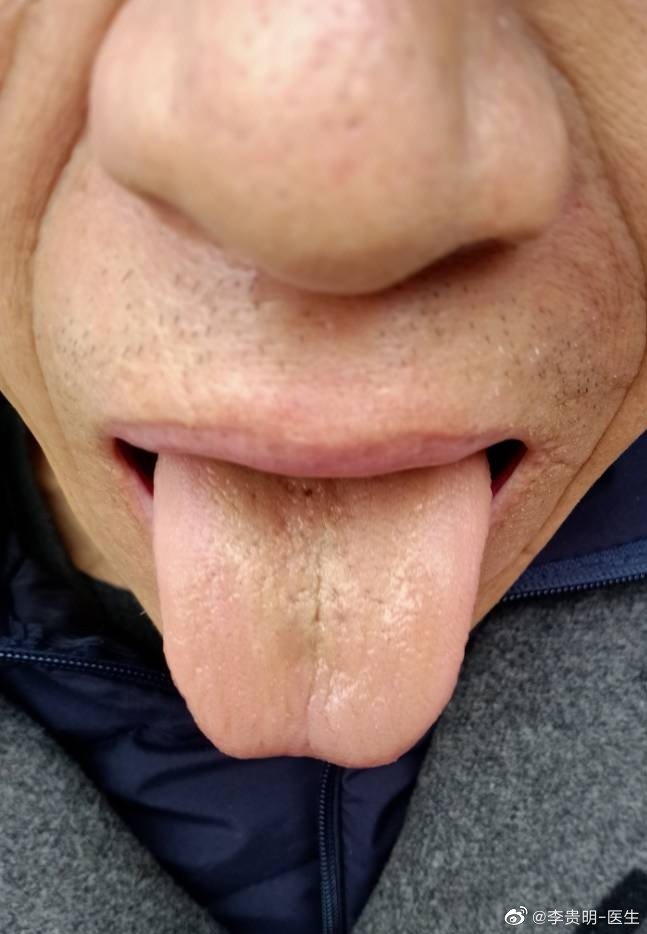huangtaishe: (153, 446, 493, 768)
liewenshe: (310, 574, 322, 624)
